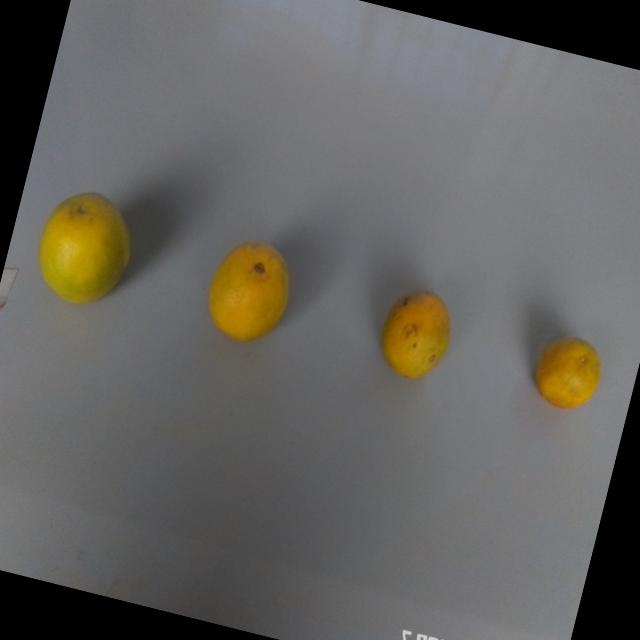agrume: (21, 177, 147, 321), (193, 224, 303, 360), (369, 280, 459, 392), (523, 322, 613, 427)
